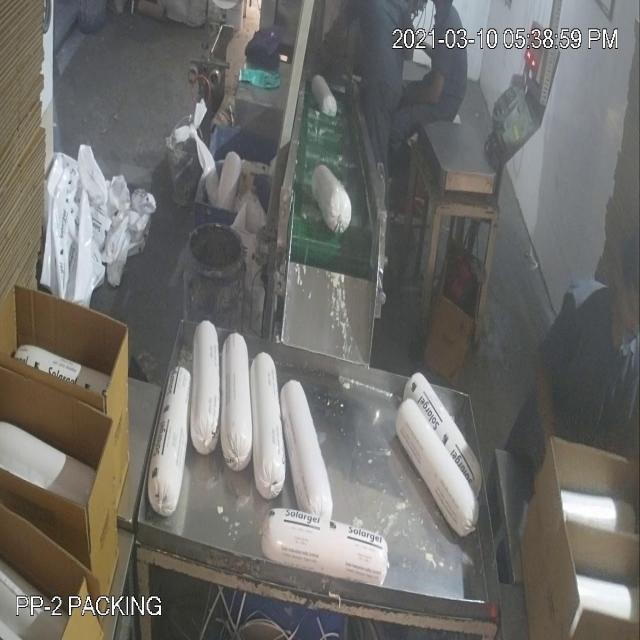No_Gloves: (528, 327, 574, 482)
